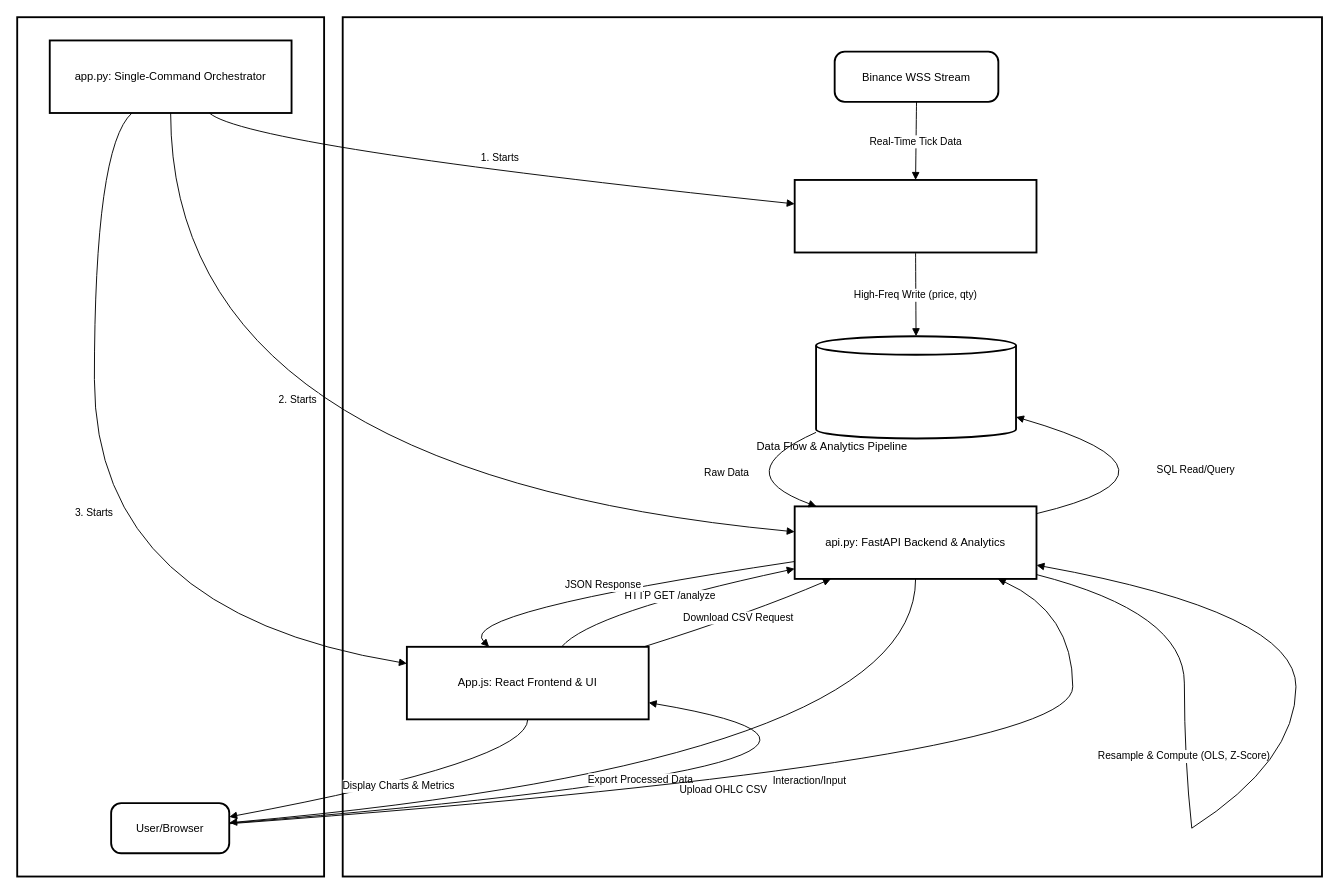
This 1338x893 diagram has some shape labels left out. The shapes that lost their labels are listed below. From the top down, each one's box as (x1, y1, x2, y2) in pixels, then its label:
(793, 179, 1037, 253): binance_stream.py: Data Ingestion
(815, 335, 1016, 439): tick_data.db: SQLite Storage
(16, 16, 325, 877): Control Layer
